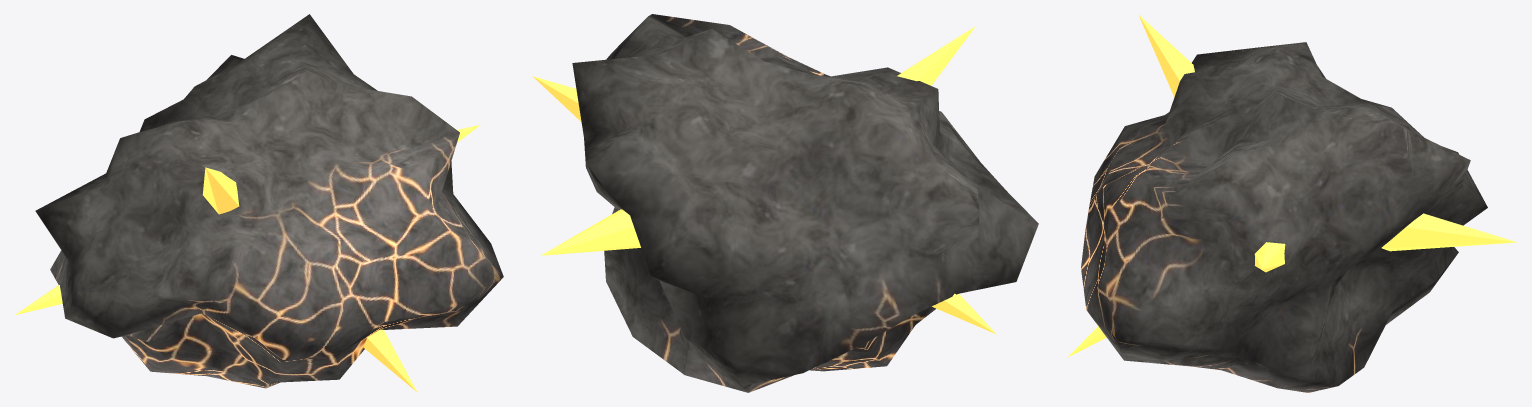
Rendered from ore_chunk.glb.
The picture shows the model from 3 angles, left to right: view 1: azimuth 30°, elevation 25°; view 2: azimuth 150°, elevation 25°; view 3: azimuth 270°, elevation 25°; orthographic projection. The views are drawn at different scales.
Visible parts, largest first — view 1: ore_chunk, Glow; view 2: ore_chunk, Glow; view 3: ore_chunk, Glow.
Part boxes in pixels (x1,y1,x2,y2): ore_chunk: [35, 14, 503, 388]; Glow: [15, 124, 480, 392]; ore_chunk: [572, 14, 1038, 392]; Glow: [532, 26, 996, 334]; ore_chunk: [1081, 42, 1487, 392]; Glow: [1067, 14, 1516, 357].
Size of the model in its own units: 1.77 by 1.12 by 1.51.
2 materials, 1 textured.
